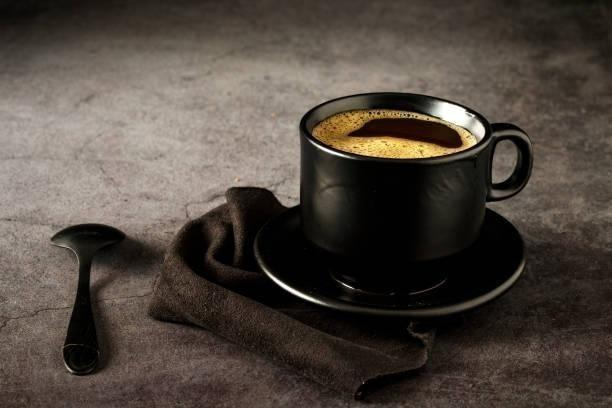cup-handle: (297, 90, 534, 295)
